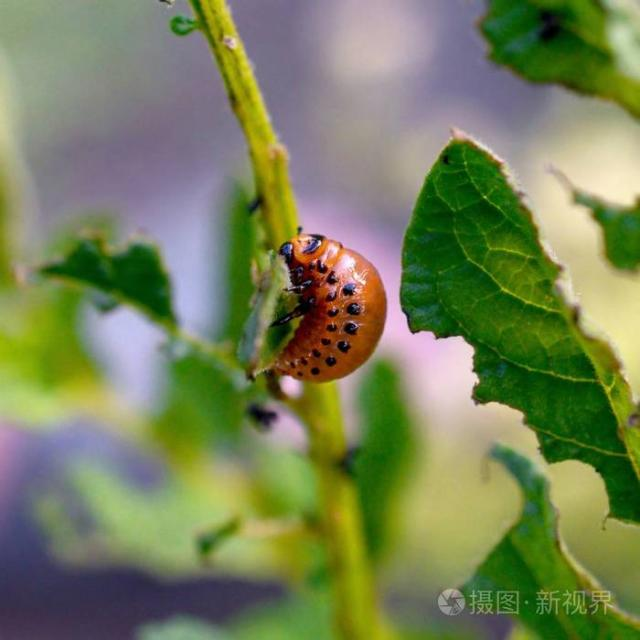ShuCaiHuaBanChong-Larva-: (262, 216, 413, 390)
